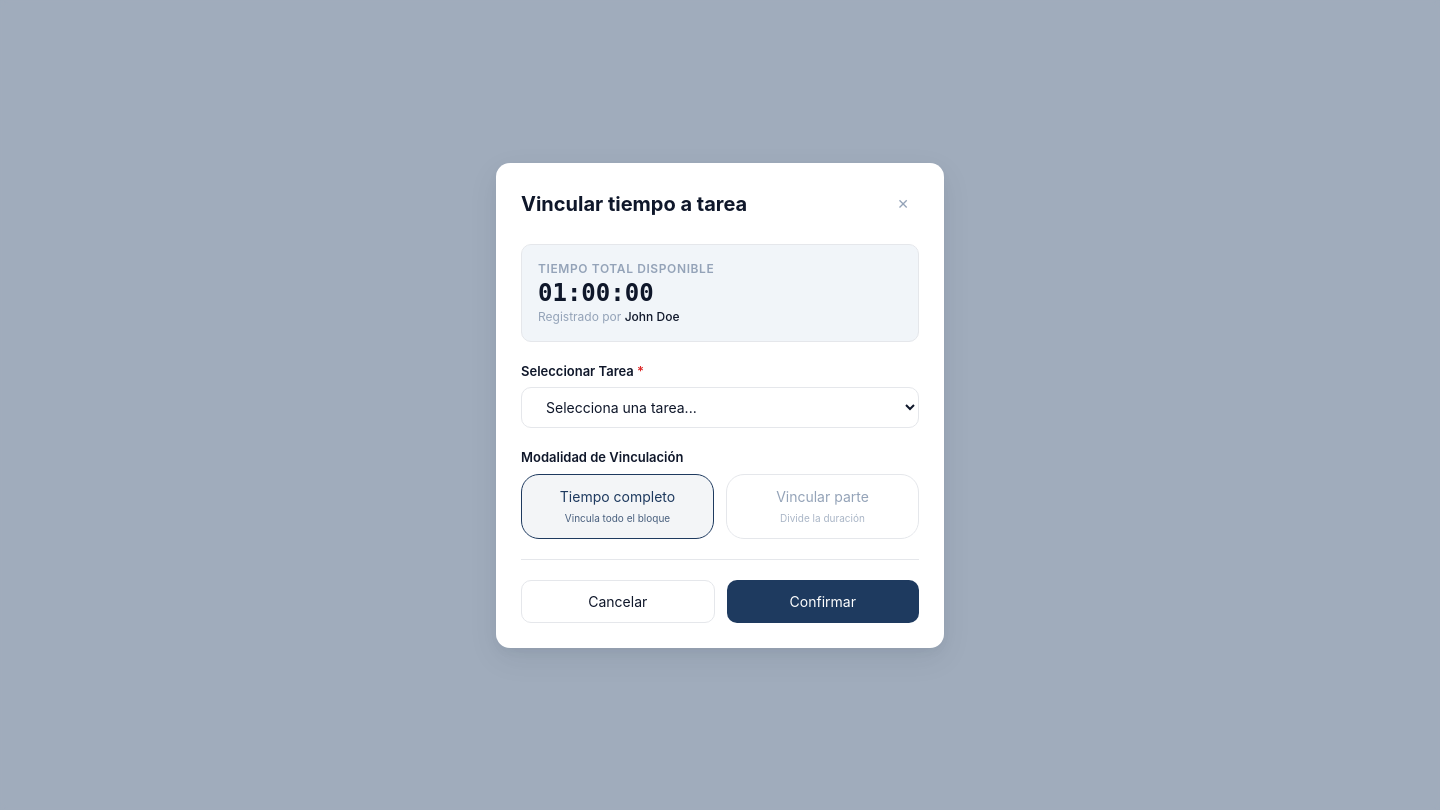
Test: LinkTimeModal Component › User Interactions & Validations › should show partial time fields when split mode is partial
Step 1. Click the button "Vincular parte Divide la duración" → (822, 506), box x1=726 y1=474 x2=919 y2=538
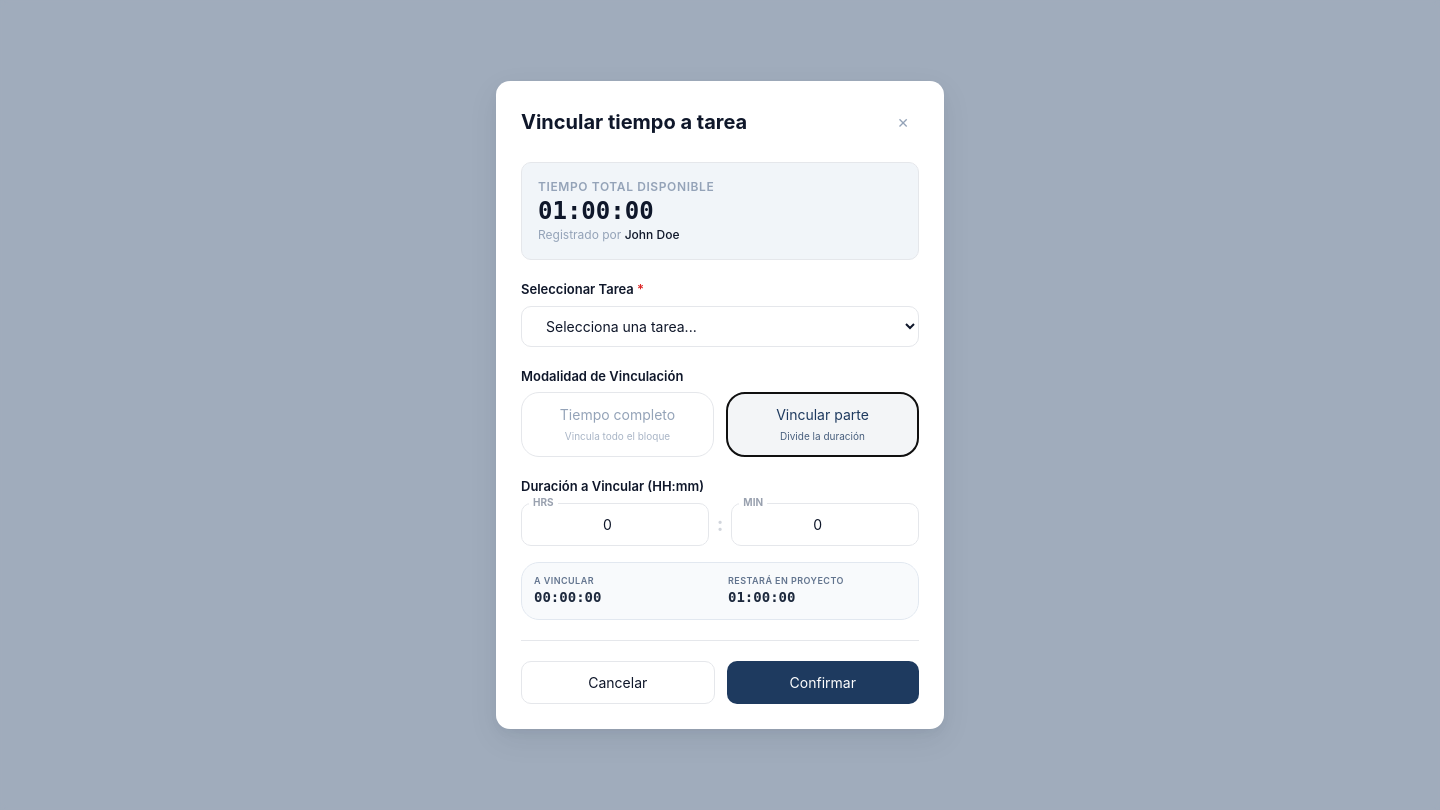
Expected: the text "Duración a Vincular (HH:mm)" is shown, x1=521 y1=478 x2=704 y2=494
Expected: the text "A Vincular" is shown, x1=534 y1=575 x2=594 y2=586
Expected: the text "Restará en Proyecto" is shown, x1=728 y1=575 x2=844 y2=586
